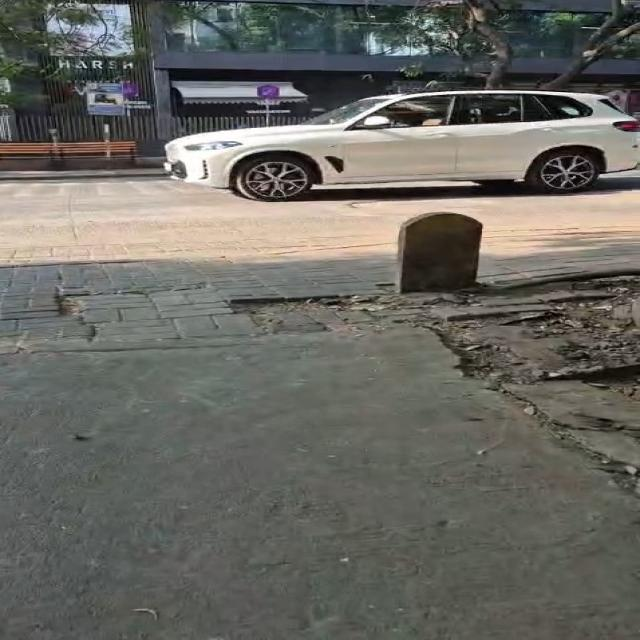auto: (0, 141, 136, 167), (0, 141, 136, 159), (55, 141, 136, 158), (0, 143, 54, 158)
bench: (165, 91, 639, 201)
bike: (266, 100, 270, 126)
